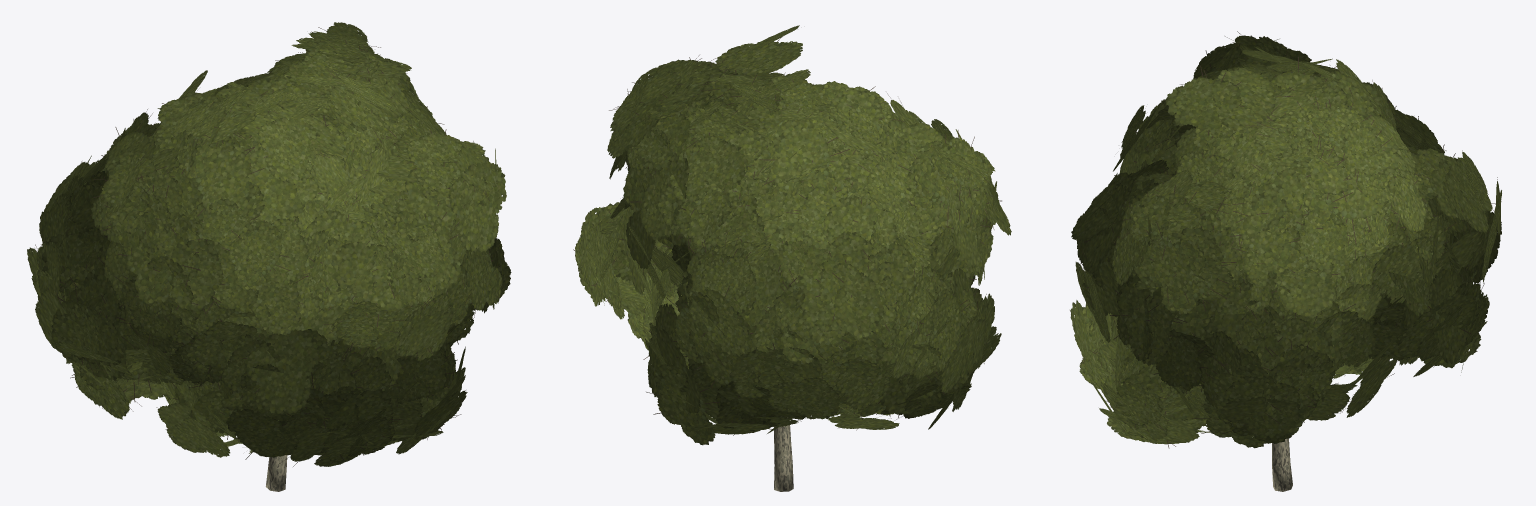
Rendered from SM_Albero_LatifogliaB_LOD1.fbx.
The picture shows the model from 3 angles, left to right: view 1: azimuth 30°, elevation 25°; view 2: azimuth 150°, elevation 25°; view 3: azimuth 270°, elevation 25°; orthographic projection.
Parts seen in each view (by area): view 1: SM_Albero_LatifogliaB_LOD1; view 2: SM_Albero_LatifogliaB_LOD1; view 3: SM_Albero_LatifogliaB_LOD1.
Boxes of the visible parts, x1,y1,x2,y2 form: SM_Albero_LatifogliaB_LOD1: [27, 22, 511, 491]; SM_Albero_LatifogliaB_LOD1: [573, 25, 1011, 491]; SM_Albero_LatifogliaB_LOD1: [1070, 31, 1501, 491].
Size of the model in its own units: 1923 by 1757 by 1828.
Materials: 2 (2 with a texture image).
